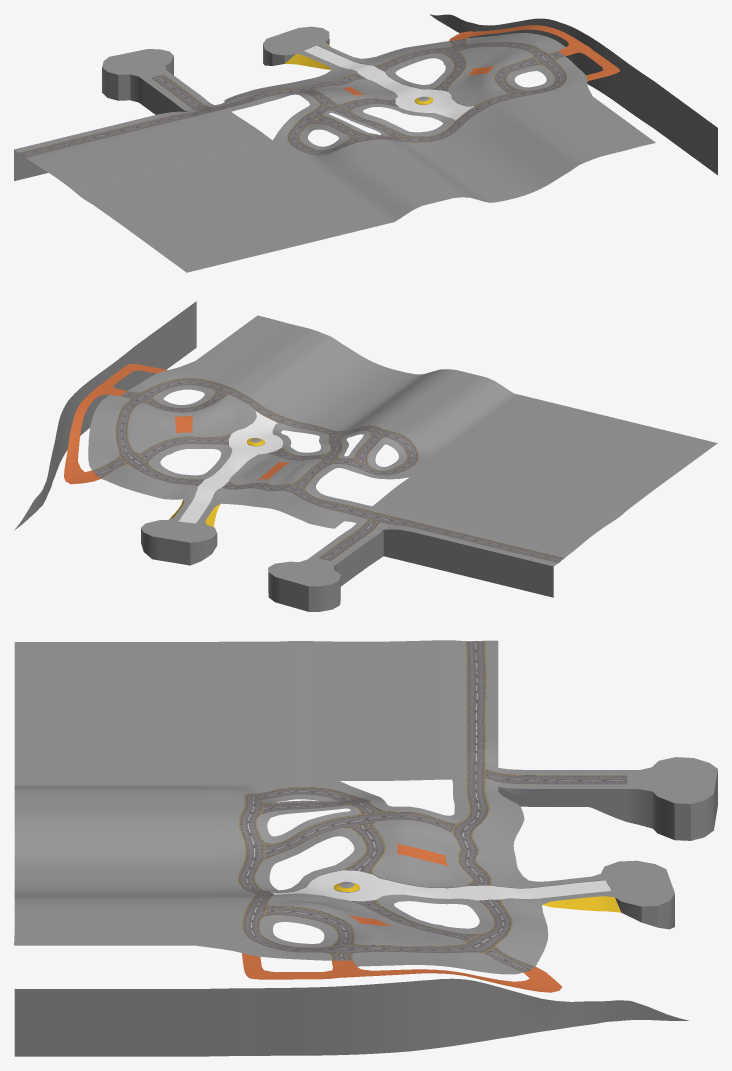
File: map_boost.fbx
The picture shows the model from 3 angles, top to bottom: view 1: azimuth 30°, elevation 25°; view 2: azimuth 150°, elevation 25°; view 3: azimuth 270°, elevation 25°; orthographic projection. The views are drawn at different scales.
Visible parts, largest first — view 1: map; view 2: map; view 3: map.
Boxes of the visible parts, x1,y1,x2,y2 form: map: (14, 14, 717, 272); map: (14, 301, 717, 611); map: (14, 640, 717, 1056).
Size of the model in its own units: 34694 by 3051 by 27842.
